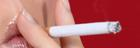smoke: (26, 20, 122, 39)
